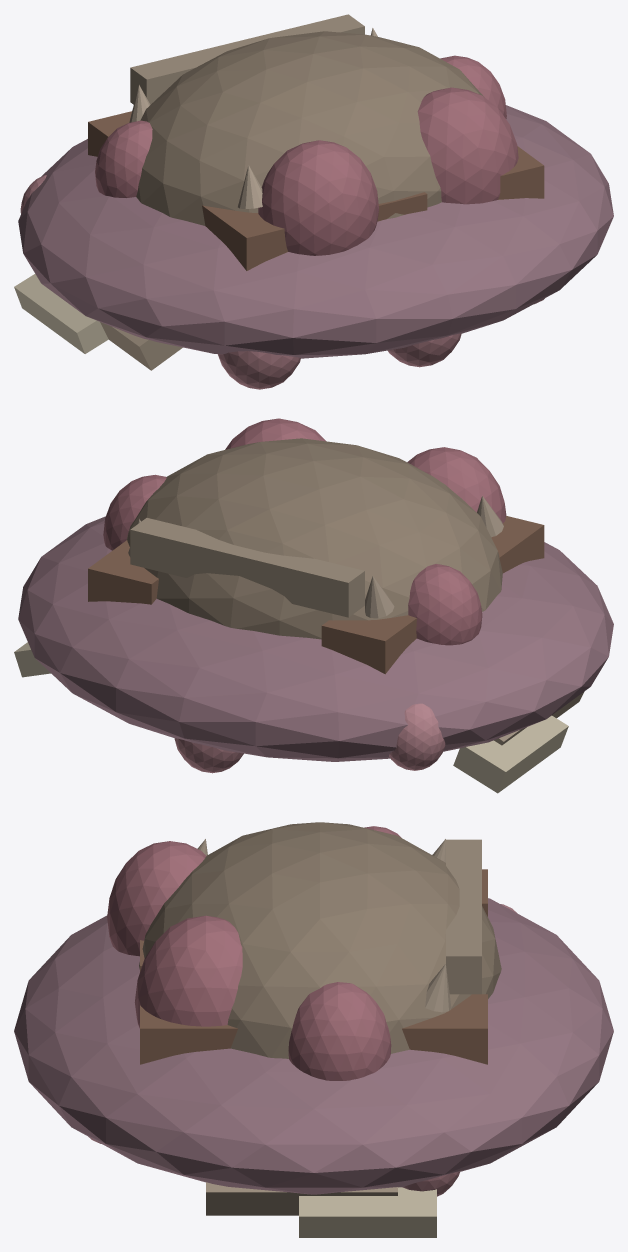
File: zglengo_carapace_warren.glb
The picture shows the model from 3 angles, top to bottom: view 1: azimuth 30°, elevation 25°; view 2: azimuth 150°, elevation 25°; view 3: azimuth 270°, elevation 25°; orthographic projection. The views are drawn at different scales.
Parts seen in each view (by area): view 1: base_mound, main_shell, breathe_sac_2, breathe_sac_3, carapace_plate_0, ridge_0, breathe_sac_0, plate_tip_0, bubo_2, carapace_plate_2, plate_0, breathe_sac_1 (+3 smaller); view 2: base_mound, main_shell, ridge_0, carapace_plate_0, breathe_sac_0, plate_tip_0, breathe_sac_2, carapace_plate_2, bubo_0, breathe_sac_1, breathe_sac_3, bubo_4 (+3 smaller); view 3: base_mound, main_shell, breathe_sac_3, breathe_sac_1, carapace_plate_2, breathe_sac_2, plate_tip_1, ridge_0, plate_1, armor_spine_6, bubo_1.
Boxes of the visible parts, x1,y1,x2,y2 form: base_mound: [18, 105, 613, 358]; main_shell: [136, 31, 484, 225]; breathe_sac_2: [258, 140, 378, 255]; breathe_sac_3: [417, 87, 518, 204]; carapace_plate_0: [88, 111, 288, 270]; ridge_0: [130, 14, 364, 104]; breathe_sac_0: [95, 120, 152, 197]; plate_tip_0: [14, 274, 108, 353]; bubo_2: [217, 351, 300, 389]; carapace_plate_2: [498, 146, 544, 199]; plate_0: [100, 322, 182, 370]; breathe_sac_1: [440, 55, 506, 118]; base_mound: [18, 516, 613, 761]; main_shell: [127, 438, 502, 639]; ridge_0: [130, 518, 364, 617]; carapace_plate_0: [321, 516, 544, 674]; breathe_sac_0: [408, 564, 482, 645]; plate_tip_0: [453, 715, 568, 793]; breathe_sac_2: [407, 447, 506, 523]; carapace_plate_2: [88, 540, 158, 604]; bubo_0: [389, 703, 445, 770]; breathe_sac_1: [103, 474, 166, 550]; breathe_sac_3: [225, 418, 325, 449]; bubo_4: [174, 738, 243, 773]; base_mound: [14, 898, 613, 1194]; main_shell: [139, 822, 501, 1058]; breathe_sac_3: [134, 915, 242, 1028]; breathe_sac_1: [288, 982, 391, 1080]; carapace_plate_2: [140, 994, 487, 1064]; breathe_sac_2: [107, 841, 206, 956]; plate_tip_1: [299, 1187, 436, 1237]; ridge_0: [446, 839, 481, 994]; plate_1: [206, 1182, 397, 1215]; armor_spine_6: [425, 964, 451, 1012]; bubo_1: [402, 1171, 459, 1196].
Size of the model in its own units: 2.24 by 0.9556 by 2.
